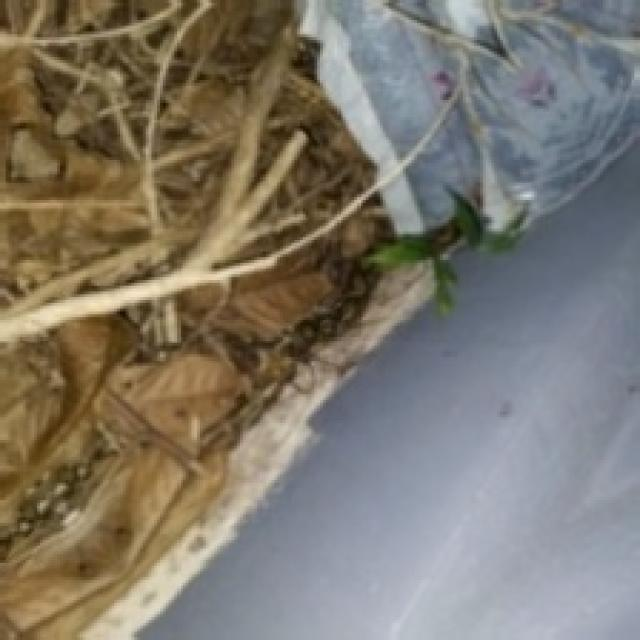reticulated python: (286, 259, 379, 361)
